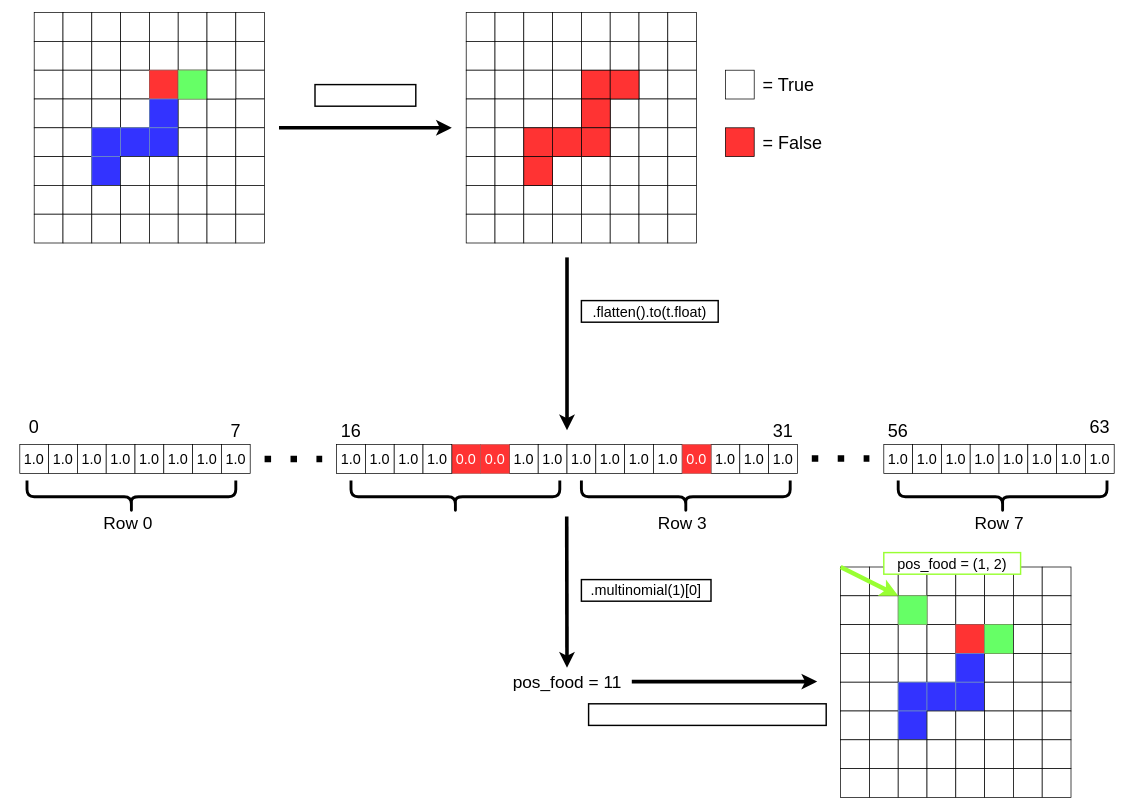
This 1133x810 diagram has some shape labels left out. Each missing label, with the centre of its shape:
Row 2: point 455,496
snake == 0: point 365,95
unravel(pos_food, snake.shape): point 707,714
